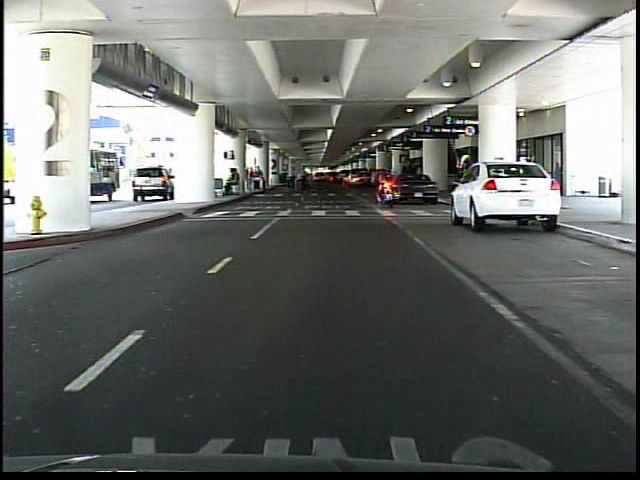person: (453, 151, 475, 224)
